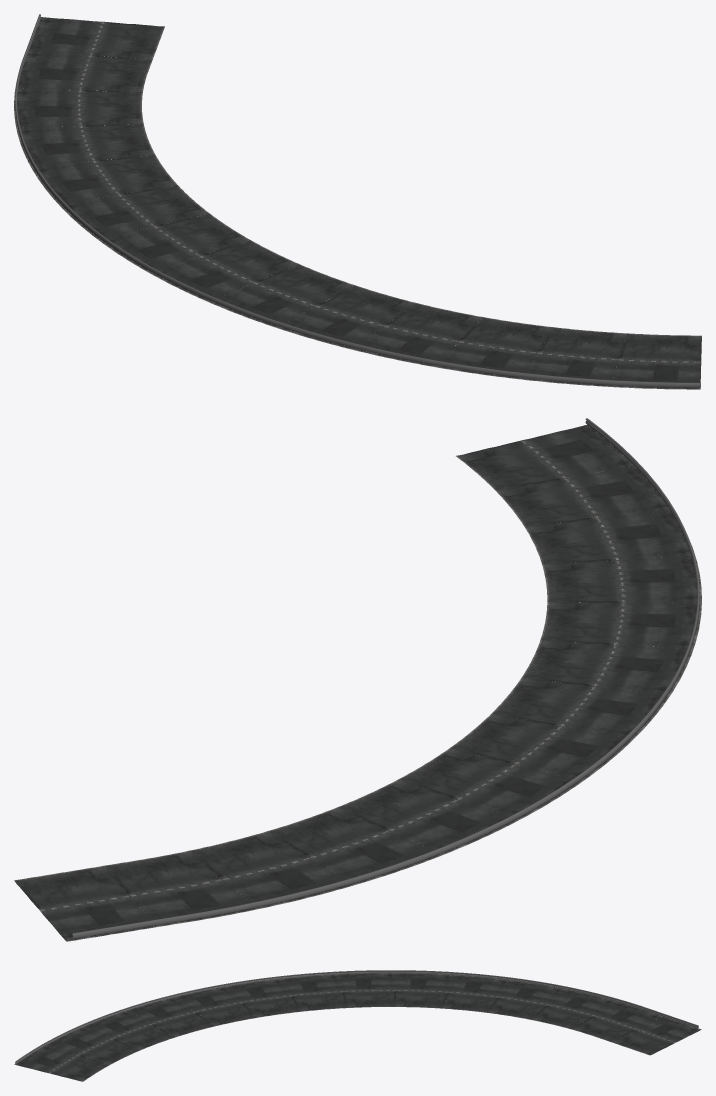
The model's file is Semicircular road.obj.
The picture shows the model from 3 angles, top to bottom: view 1: azimuth 30°, elevation 25°; view 2: azimuth 150°, elevation 25°; view 3: azimuth 270°, elevation 25°; orthographic projection. The views are drawn at different scales.
Parts seen in each view (by area): view 1: Plane_Plane.005, Plane.003_Plane.004; view 2: Plane_Plane.005, Plane.003_Plane.004; view 3: Plane_Plane.005, Plane.003_Plane.004.
Part boxes in pixels (box(x1,y1,x2,y2)): Plane_Plane.005: box(14, 17, 701, 389); Plane.003_Plane.004: box(15, 14, 700, 388); Plane_Plane.005: box(14, 424, 701, 941); Plane.003_Plane.004: box(72, 418, 699, 938); Plane_Plane.005: box(14, 973, 701, 1081); Plane.003_Plane.004: box(15, 970, 698, 1063).
Bounding box in the file's own units: 41.34 × 0.6159 × 110.
